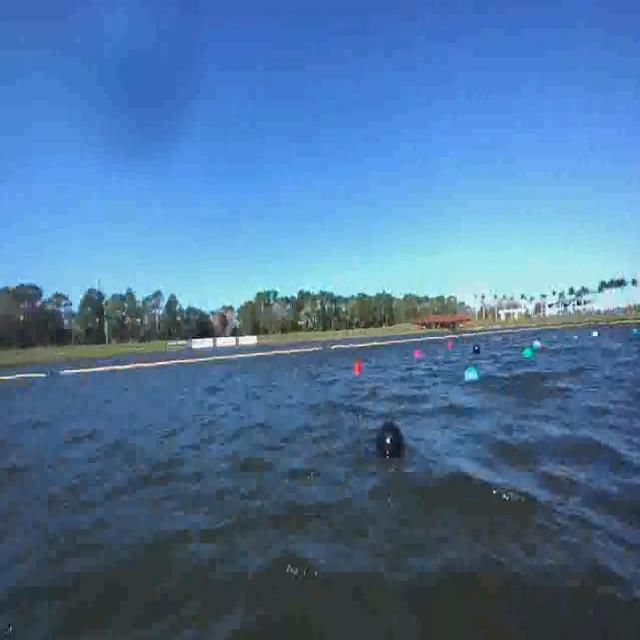black-buoy: (376, 422, 404, 462), (472, 338, 481, 353)
green-buoy: (462, 365, 480, 383), (523, 348, 534, 359)
red-buoy: (353, 363, 361, 375), (415, 350, 422, 358)
